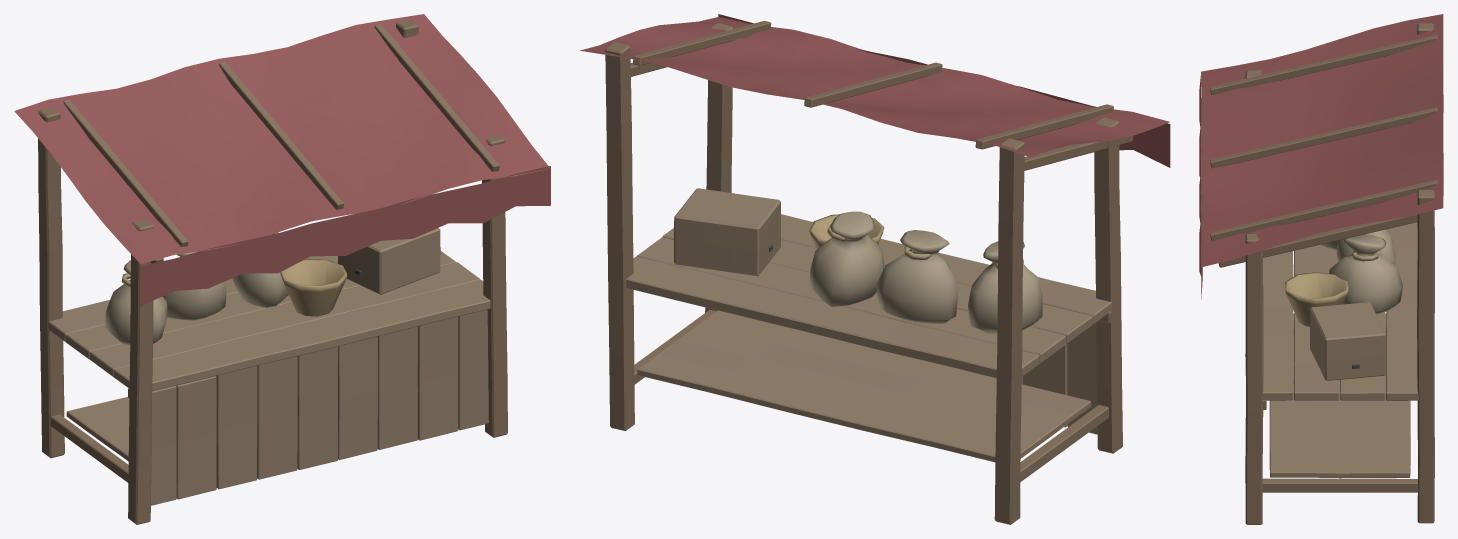
File: stall.glb
3 renders of one model, left to right at view 1: azimuth 30°, elevation 25°; view 2: azimuth 150°, elevation 25°; view 3: azimuth 270°, elevation 25°, orthographic. The views are drawn at different scales.
Parts seen in each view (by area): view 1: stall; view 2: stall; view 3: stall.
Boxes of the visible parts, x1=… form: stall: x1=14, y1=14, x2=550, y2=524; stall: x1=580, y1=14, x2=1170, y2=524; stall: x1=1199, y1=14, x2=1443, y2=524.
Size of the model in its own units: 2.9 by 2.34 by 1.56.
